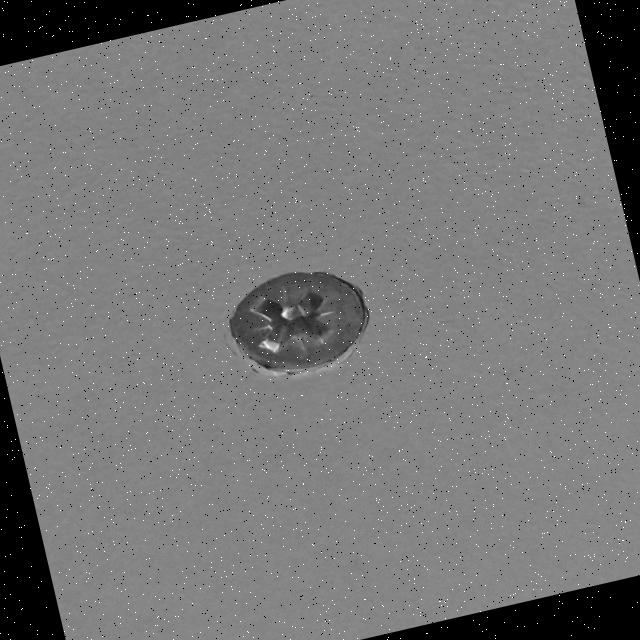Pozidriv: (214, 248, 394, 396)
